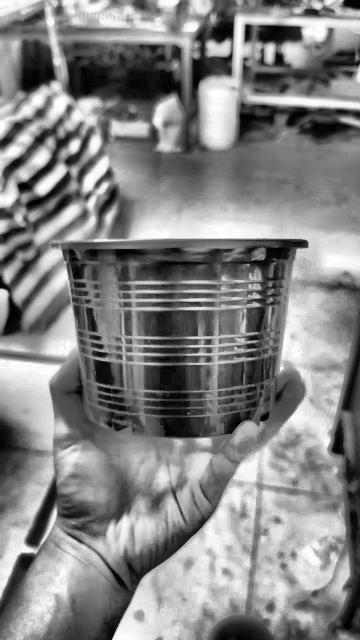pot: (53, 240, 307, 438)
